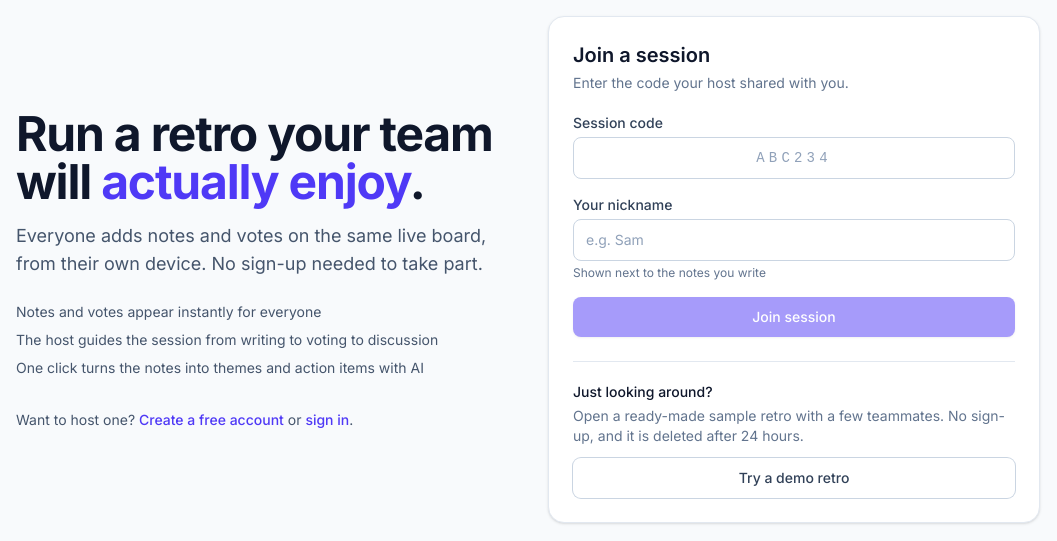
it: JoinPage › cleans up the code as you type: upper case, no stray characters, six at most
Type "a-b c2#34567" into the field with test id "code" at (794, 158), box [573,137,1015,179]
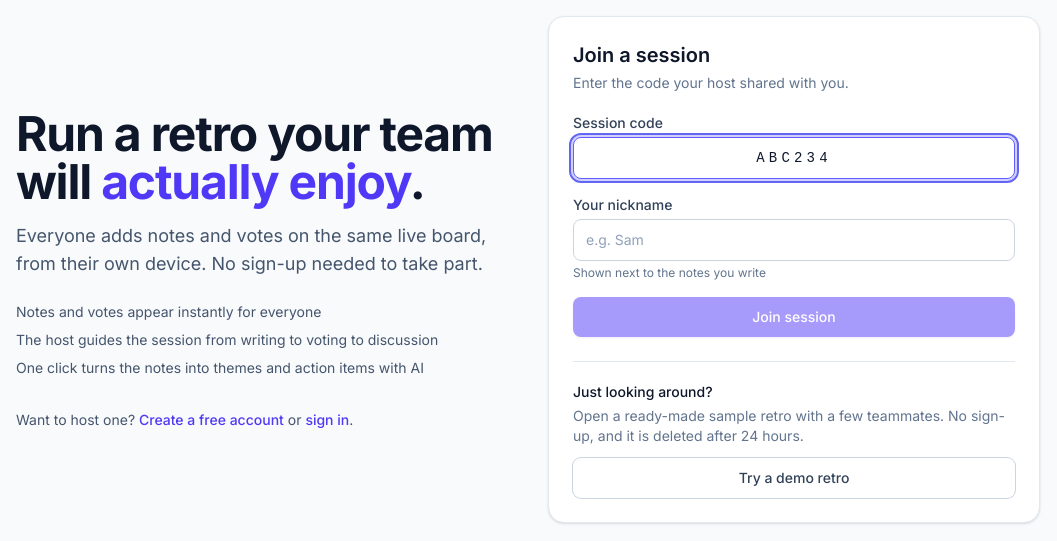
Result: the field with test id "code" holds "ABC234" at [573,137,1015,179]
